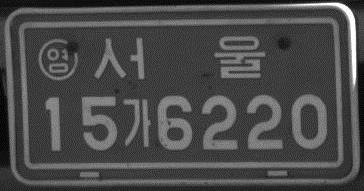0: (290, 93, 328, 149)
1: (40, 95, 66, 154)
2: (200, 94, 239, 152), (245, 92, 283, 151)
5: (79, 93, 119, 152)
6: (155, 94, 194, 152)
가: (120, 96, 153, 151)
서울_D: (92, 33, 267, 82)
영: (36, 36, 79, 81)
